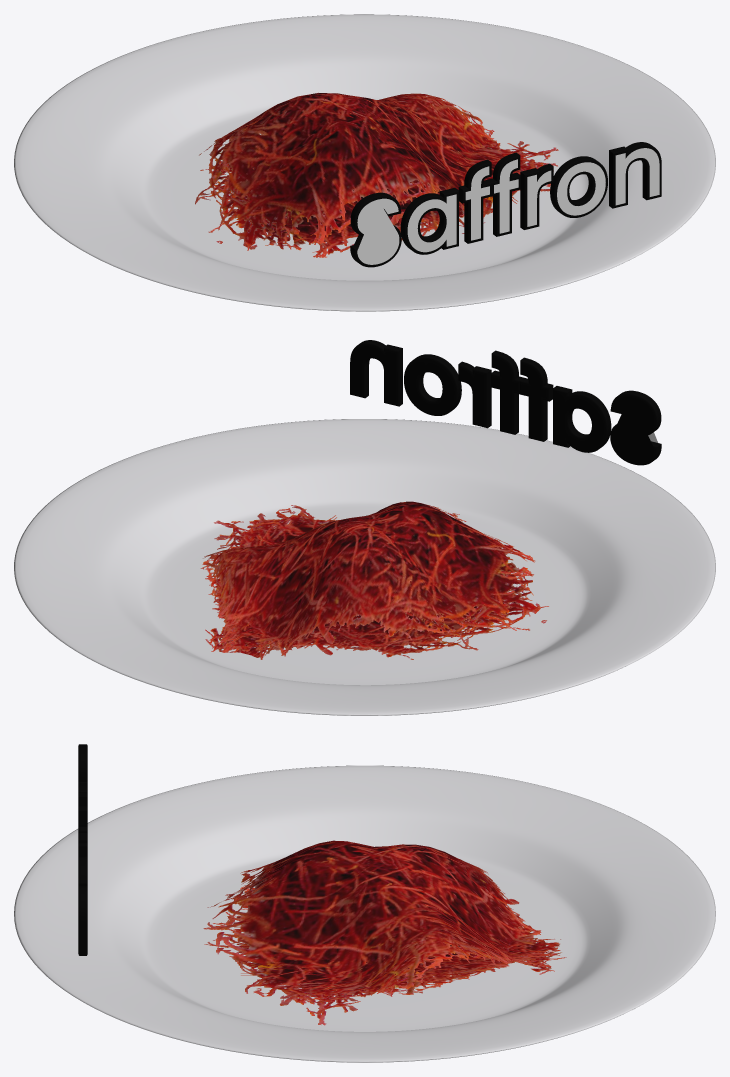
The model's file is Saffron.fbx.
3 renders of one model, top to bottom at view 1: azimuth 30°, elevation 25°; view 2: azimuth 150°, elevation 25°; view 3: azimuth 270°, elevation 25°, orthographic.
Parts seen in each view (by area): view 1: Circle, pPlane1, typeMesh2, pPlane2; view 2: Circle, pPlane1, typeMesh2, pPlane2; view 3: Circle, pPlane1, pPlane2, typeMesh2.
Boxes of the visible parts, left/top/right/bottom form: Circle: left=14, top=14, right=715, bottom=311; pPlane1: left=195, top=93, right=557, bottom=249; typeMesh2: left=350, top=142, right=661, bottom=267; pPlane2: left=196, top=92, right=558, bottom=257; Circle: left=14, top=419, right=715, bottom=715; pPlane1: left=203, top=501, right=540, bottom=659; typeMesh2: left=350, top=340, right=661, bottom=465; pPlane2: left=200, top=505, right=548, bottom=659; Circle: left=14, top=765, right=715, bottom=1062; pPlane1: left=203, top=840, right=554, bottom=1025; pPlane2: left=204, top=884, right=566, bottom=1009; typeMesh2: left=78, top=744, right=87, bottom=955.
Bounding box in the file's own units: 313 × 75.18 × 313.
Materials: 5 (1 with a texture image).
